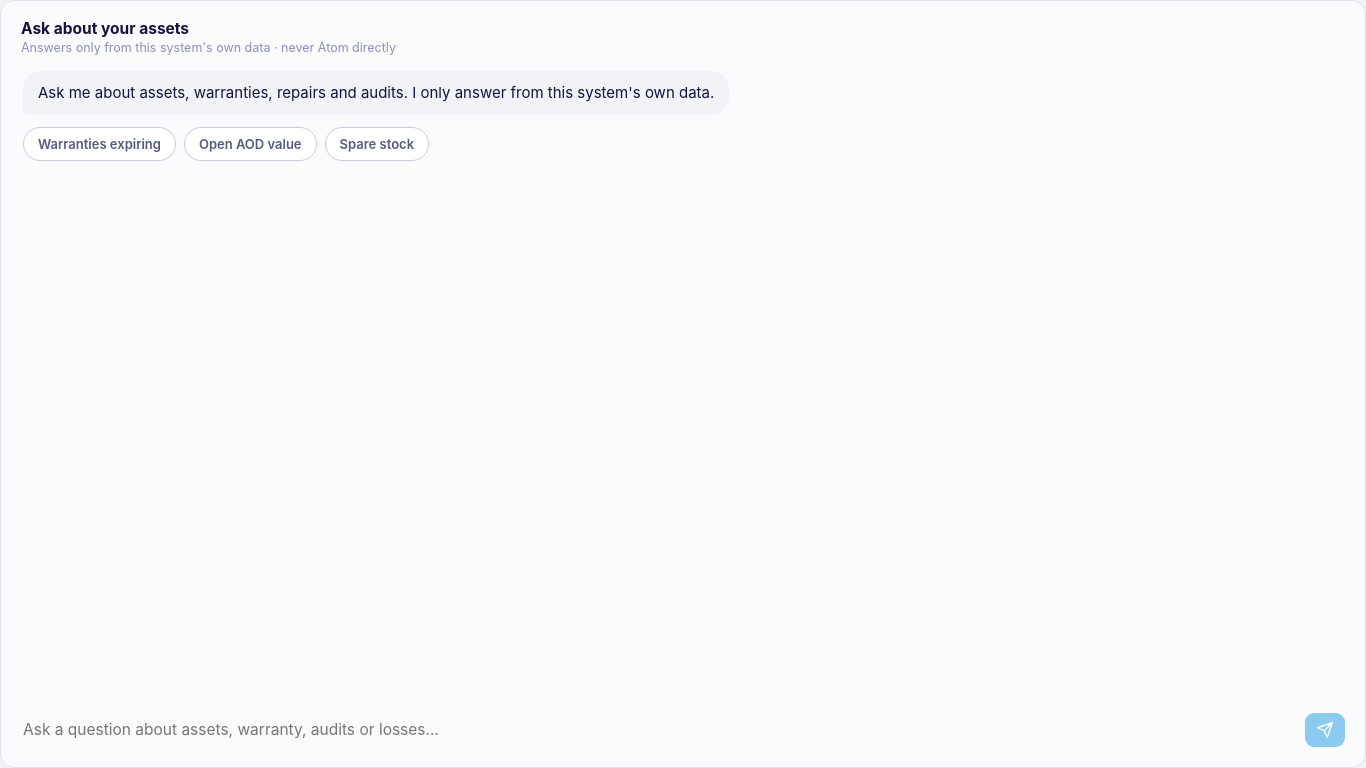
Test: ChatPanel › offers dashboards as buttons, and a click opens that dashboard in the chat
The image size is (1366, 768).
Type "What dashboards are there?" into the field named "Your question".
click(658, 730); type("What dashboards are there?")  # box [21,710,1295,749]
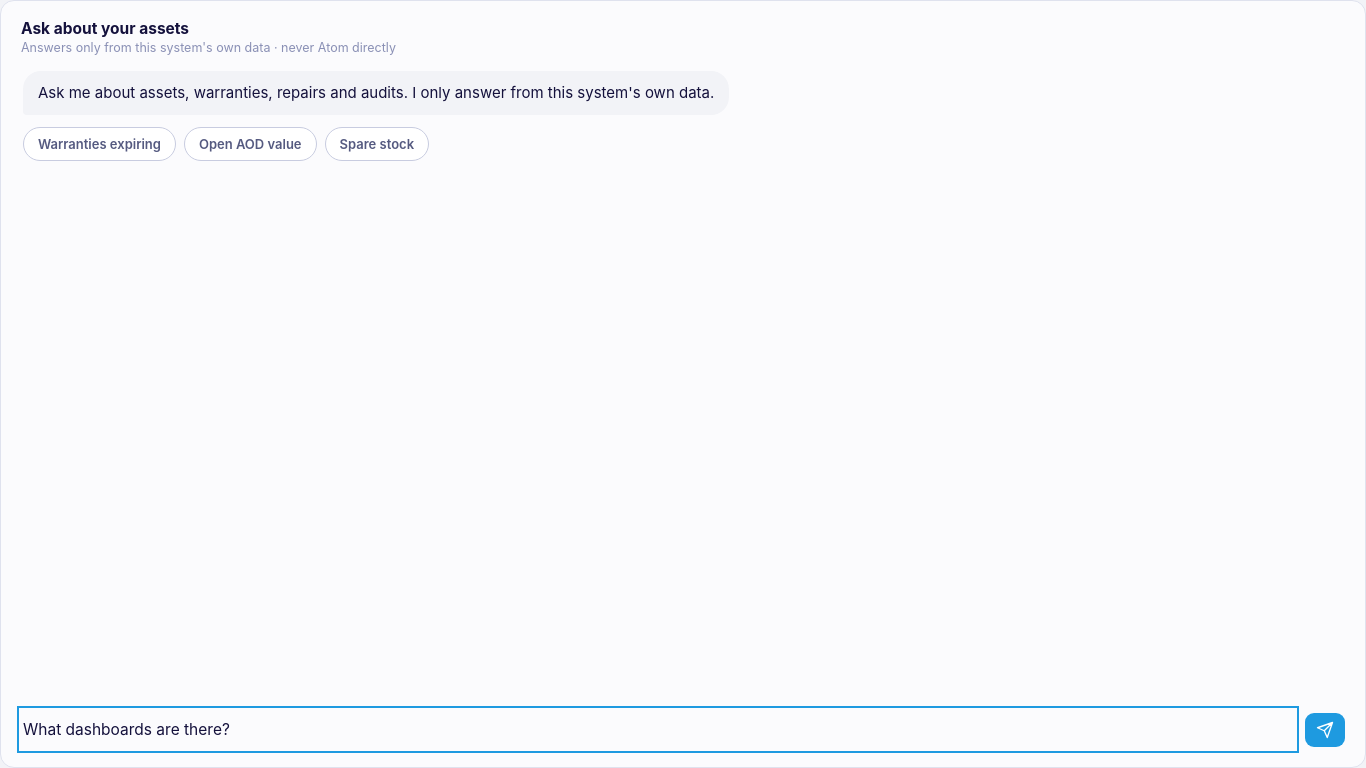
Click the button named "Send question".
click(1325, 730)  # box [1305,712,1345,746]
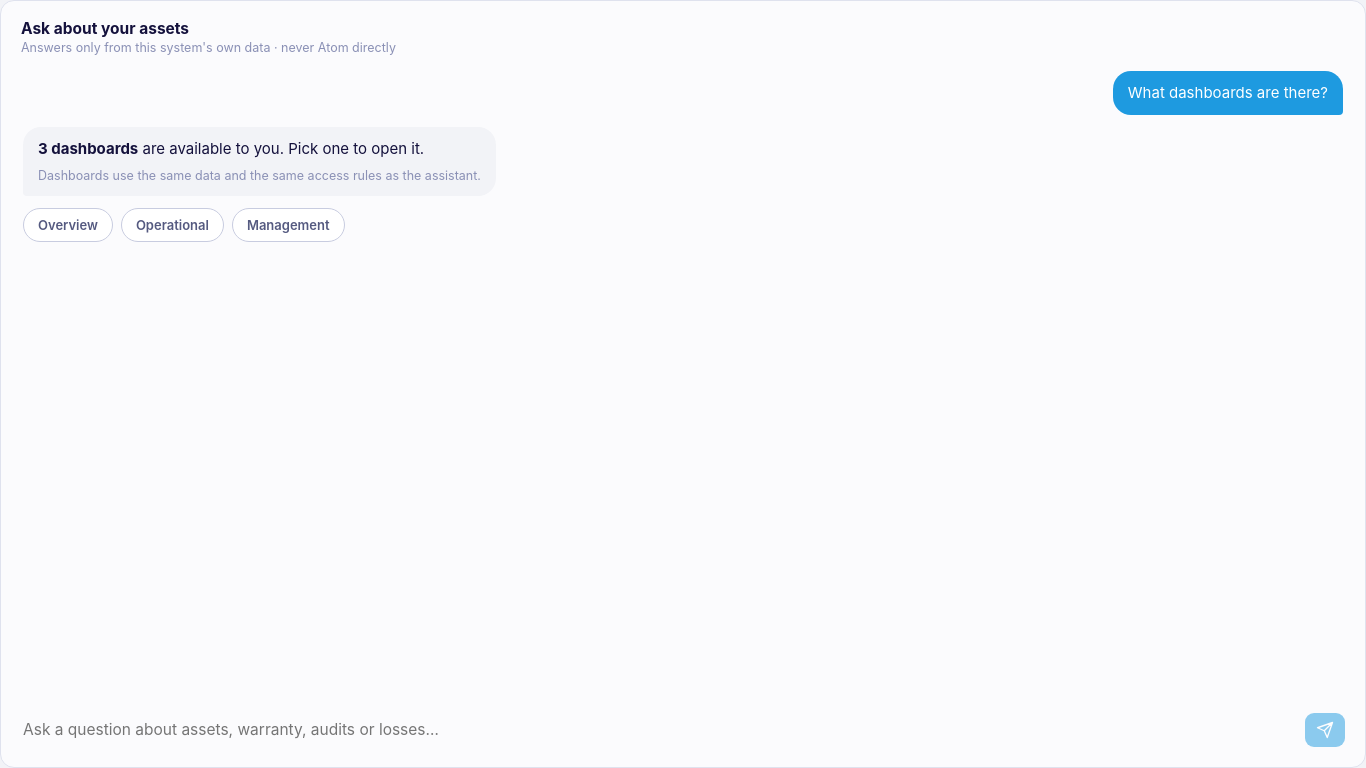
Now the button "Overview" is shown, box [23,208,113,242]
Now the button "Operational" is shown
Now the button "Management" is shown, box [232,208,344,242]
Click the button "Operational".
click(172, 225)  # box [121,208,224,242]
(page scrolled)
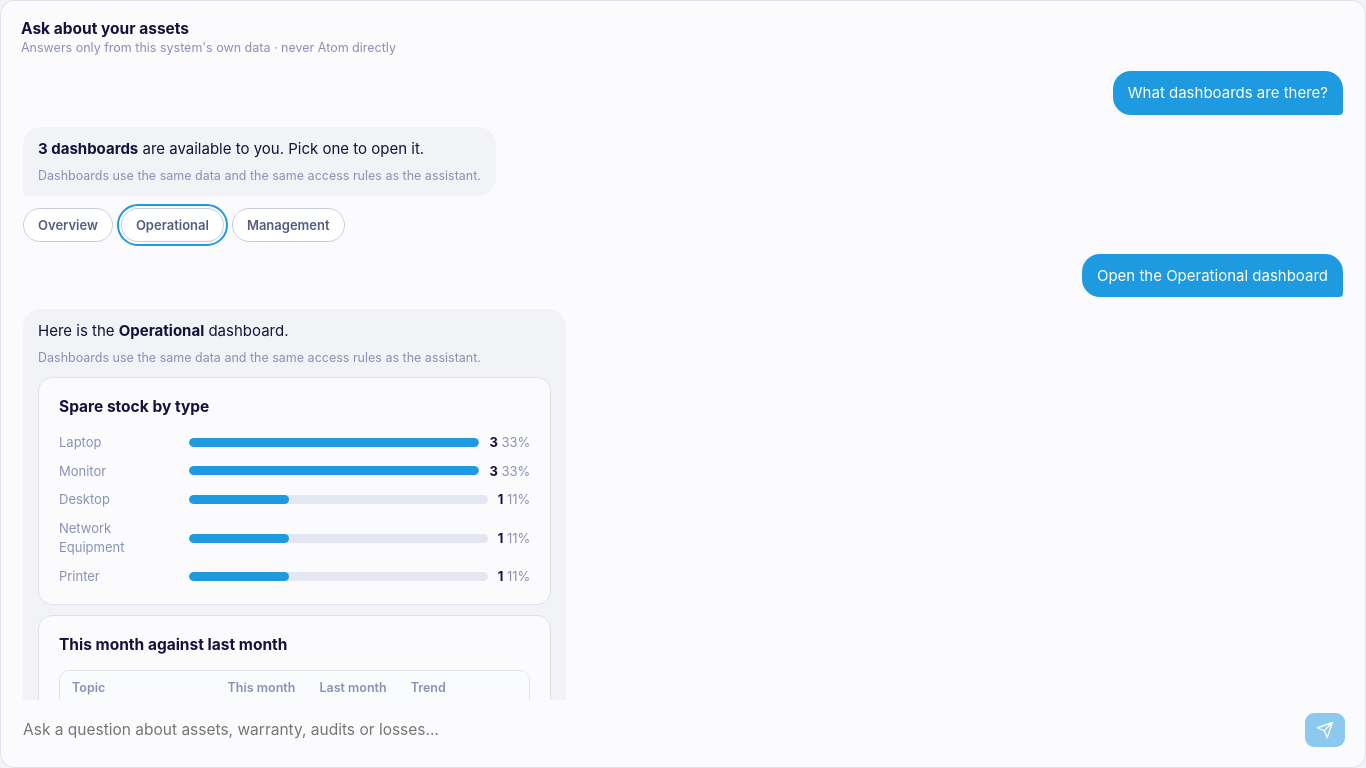
Now the text "Open the Operational dashboard" is shown, box [1082,254,1343,297]
